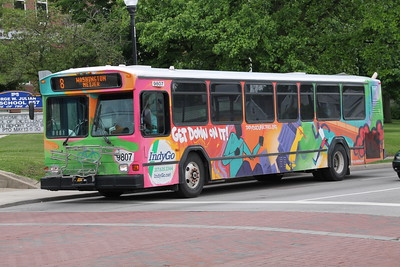bus: (40, 65, 385, 198)
